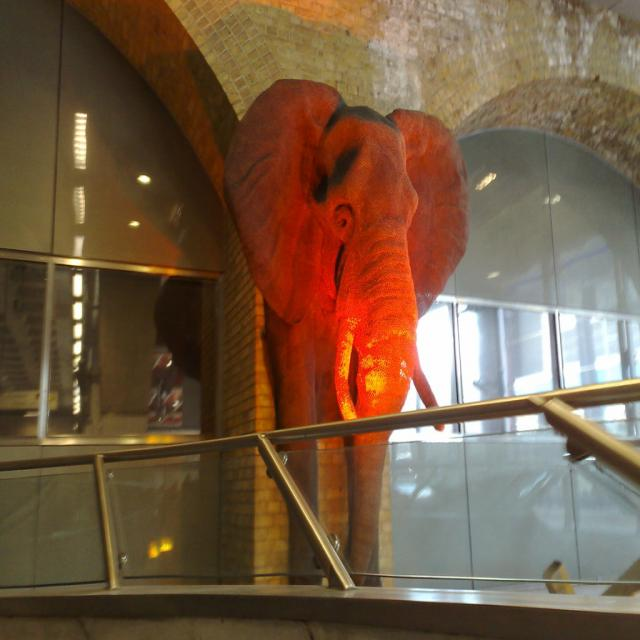elephant: (214, 85, 471, 471)
